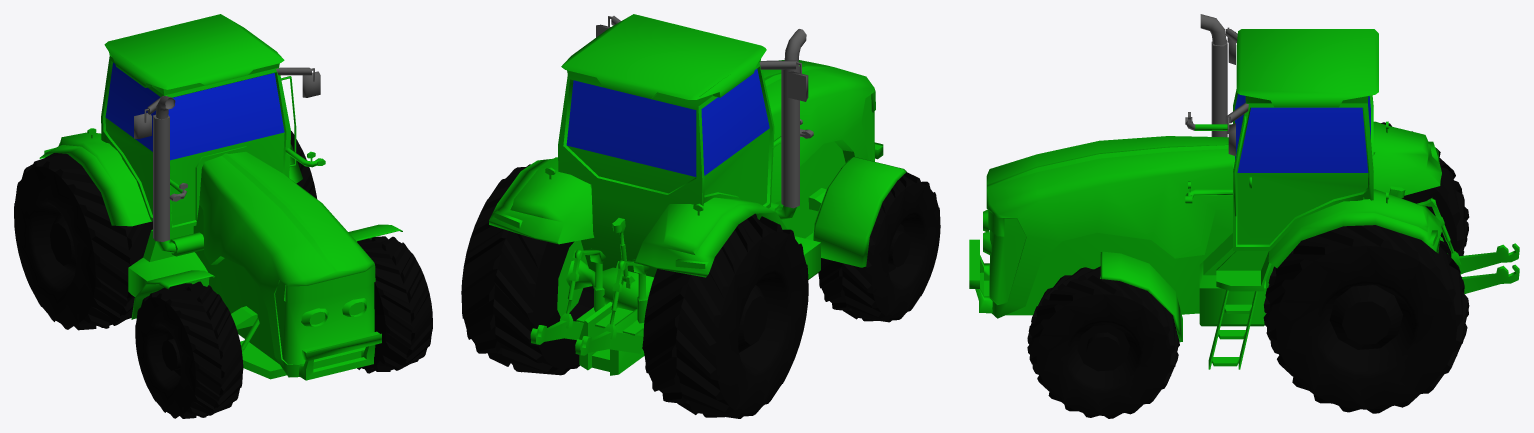
Rendered from Track.fbx.
3 views of the same model, side by side, from view 1: azimuth 30°, elevation 25°; view 2: azimuth 150°, elevation 25°; view 3: azimuth 270°, elevation 25° (orthographic). The views are drawn at different scales.
Visible parts, largest first — view 1: polySurface26, polySurface3; view 2: polySurface26, polySurface3; view 3: polySurface26, polySurface3.
Part boxes in pixels (x1=…): polySurface26: x1=39, y1=14, x2=402, y2=380; polySurface3: x1=14, y1=131, x2=432, y2=418; polySurface26: x1=489, y1=14, x2=906, y2=375; polySurface3: x1=461, y1=164, x2=940, y2=418; polySurface26: x1=969, y1=14, x2=1519, y2=369; polySurface3: x1=1027, y1=122, x2=1469, y2=418.
Size of the model in its own units: 75.81 by 83.39 by 135.
